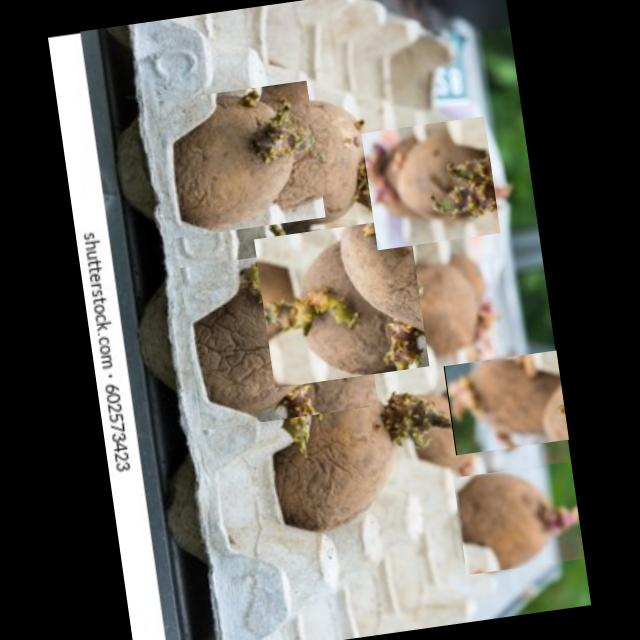Sprouted potato: (180, 242, 378, 430), (258, 383, 467, 538), (238, 70, 427, 230), (254, 217, 429, 387), (156, 80, 326, 238), (362, 115, 501, 249), (385, 252, 524, 361), (454, 460, 586, 574), (444, 350, 568, 454)
